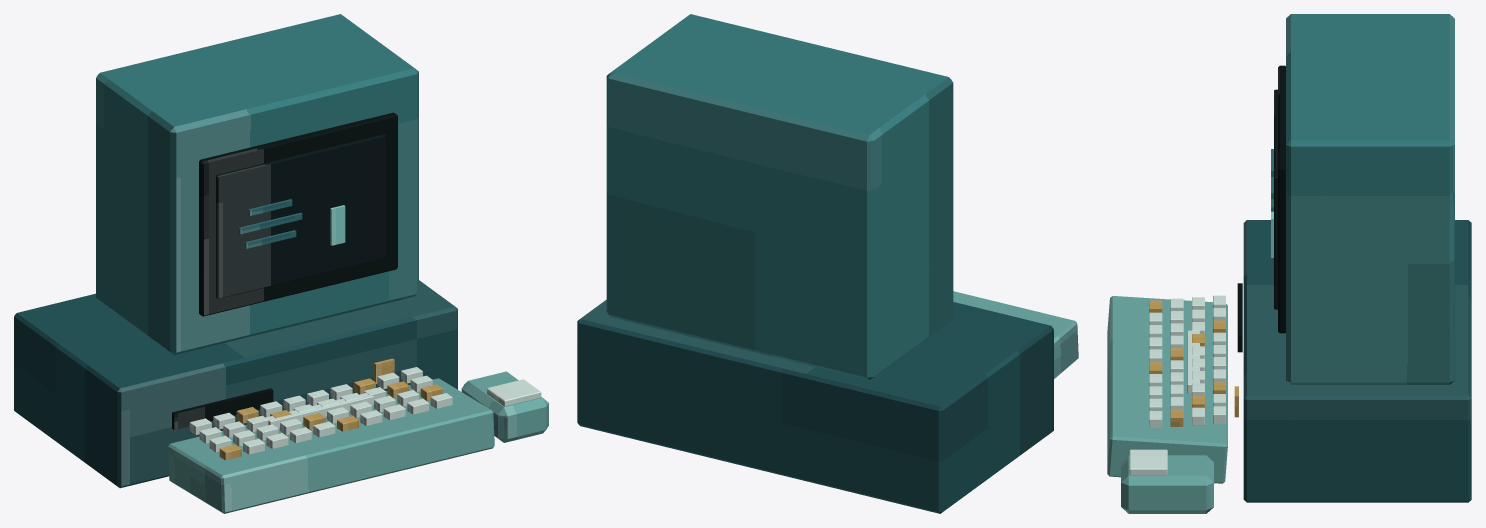
Rendered from retro_computer_desktop_teal.glb.
The picture shows the model from 3 angles, left to right: view 1: azimuth 30°, elevation 25°; view 2: azimuth 150°, elevation 25°; view 3: azimuth 270°, elevation 25°; orthographic projection. The views are drawn at different scales.
Visible parts, largest first — view 1: MonitorShell, DesktopCase, MonitorGlow, KeyboardBody, MonitorFace, Mouse, FloppySlot, MouseButton, SpaceBar, ScreenGlyph_4; view 2: MonitorShell, DesktopCase, KeyboardBody; view 3: MonitorShell, DesktopCase, KeyboardBody, Mouse, MonitorFace, MouseButton, MonitorGlow, SpaceBar, FloppySlot.
Boxes of the visible parts, x1,y1,x2,y2 form: MonitorShell: [96, 14, 418, 354]; DesktopCase: [14, 280, 457, 488]; MonitorGlow: [216, 134, 386, 298]; KeyboardBody: [168, 378, 494, 513]; MonitorFace: [199, 112, 397, 316]; Mouse: [461, 371, 548, 442]; FloppySlot: [172, 388, 273, 429]; MouseButton: [487, 379, 541, 406]; SpaceBar: [265, 393, 373, 428]; ScreenGlyph_4: [330, 205, 345, 245]; MonitorShell: [606, 14, 953, 380]; DesktopCase: [577, 299, 1053, 513]; KeyboardBody: [953, 291, 1078, 378]; MonitorShell: [1286, 14, 1454, 384]; DesktopCase: [1243, 220, 1471, 502]; KeyboardBody: [1107, 296, 1227, 483]; Mouse: [1121, 455, 1213, 513]; MonitorFace: [1278, 65, 1285, 333]; MouseButton: [1129, 449, 1167, 475]; MonitorGlow: [1274, 89, 1277, 309]; SpaceBar: [1187, 330, 1199, 393]; FloppySlot: [1237, 283, 1242, 352].
Size of the model in its own units: 1.1 by 0.92 by 0.8629.
1 material, 1 textured.
